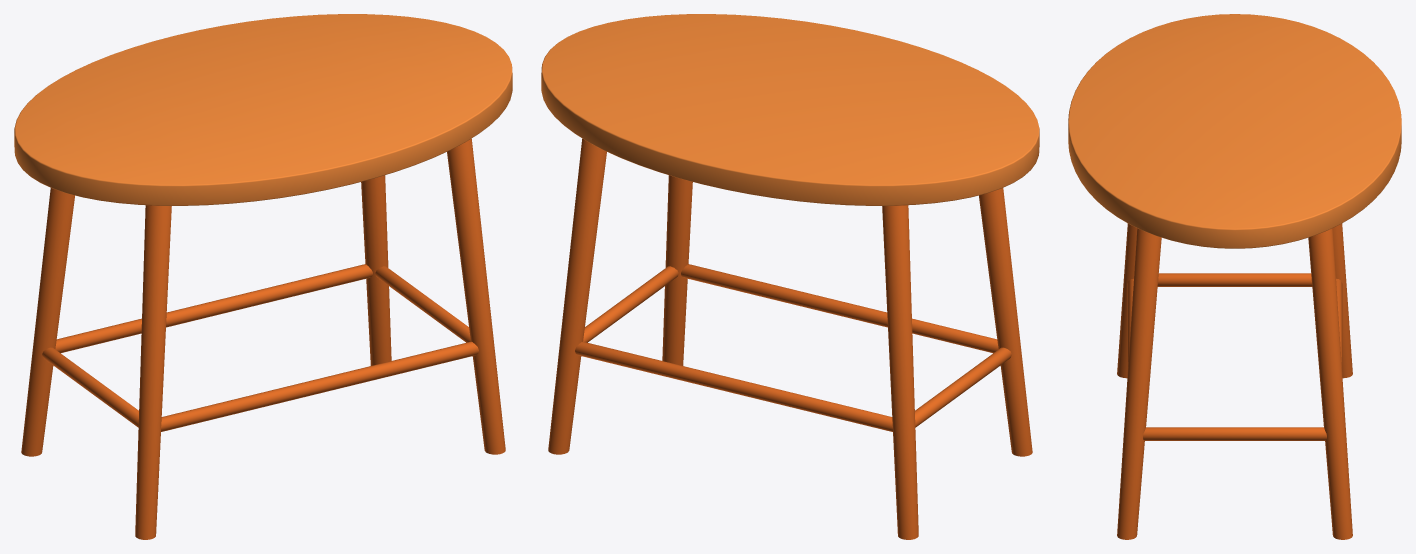
File: mesa_jantar_oval_aro_laranja.glb
The picture shows the model from 3 angles, left to right: view 1: azimuth 30°, elevation 25°; view 2: azimuth 150°, elevation 25°; view 3: azimuth 270°, elevation 25°; orthographic projection. The views are drawn at different scales.
Parts seen in each view (by area): view 1: mesa_jantar_oval_aro_laranja; view 2: mesa_jantar_oval_aro_laranja; view 3: mesa_jantar_oval_aro_laranja.
Part boxes in pixels (x1,y1,x2,y2): mesa_jantar_oval_aro_laranja: [14, 14, 512, 539]; mesa_jantar_oval_aro_laranja: [541, 14, 1039, 539]; mesa_jantar_oval_aro_laranja: [1068, 14, 1401, 539].
Bounding box in the file's own units: 1.04 × 0.75 × 0.68.
1 material, 1 textured.
